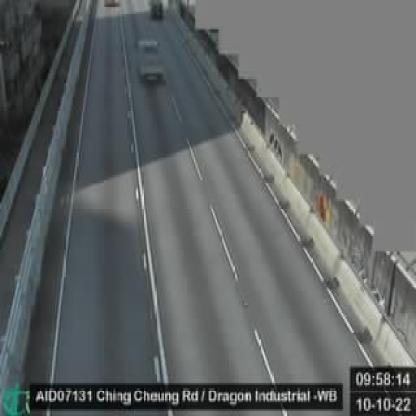Car: (150, 0, 164, 19)
Truck: (137, 36, 167, 86)
